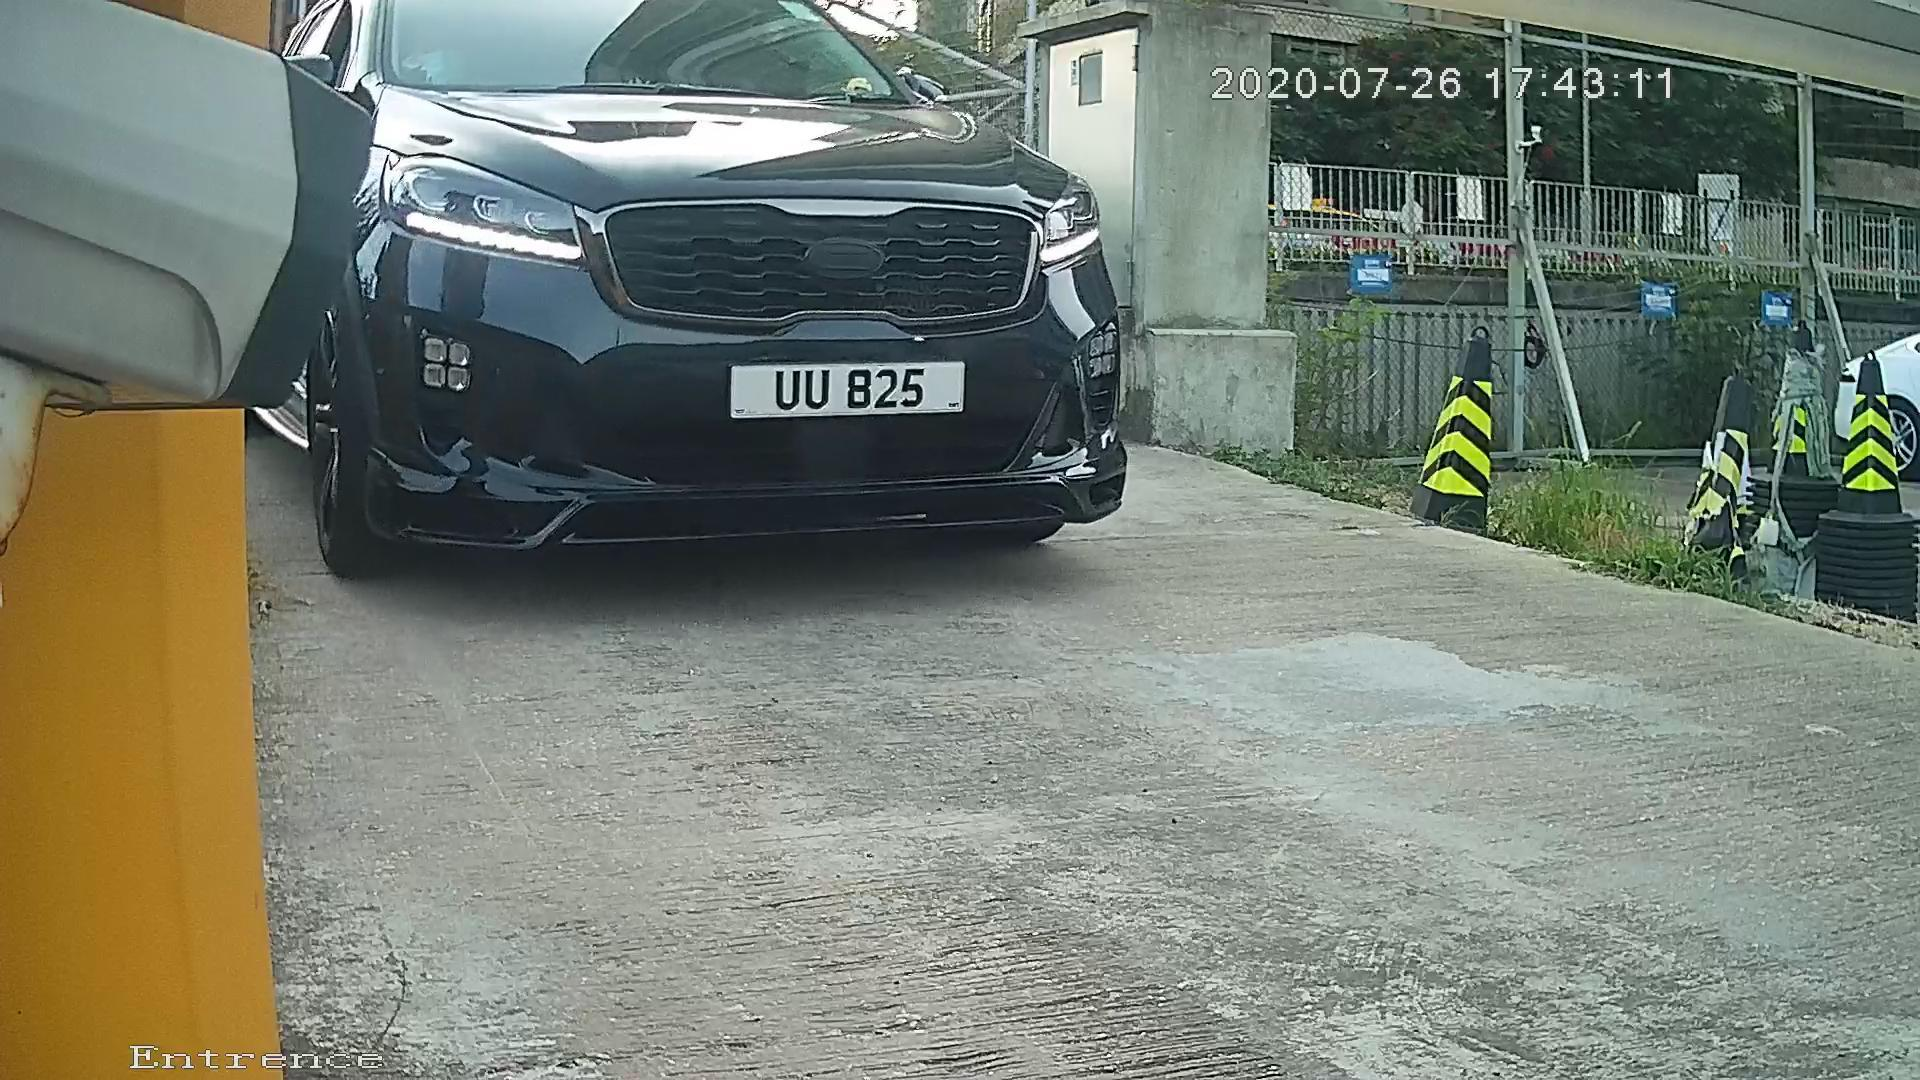privatecar: (206, 25, 1321, 608)
